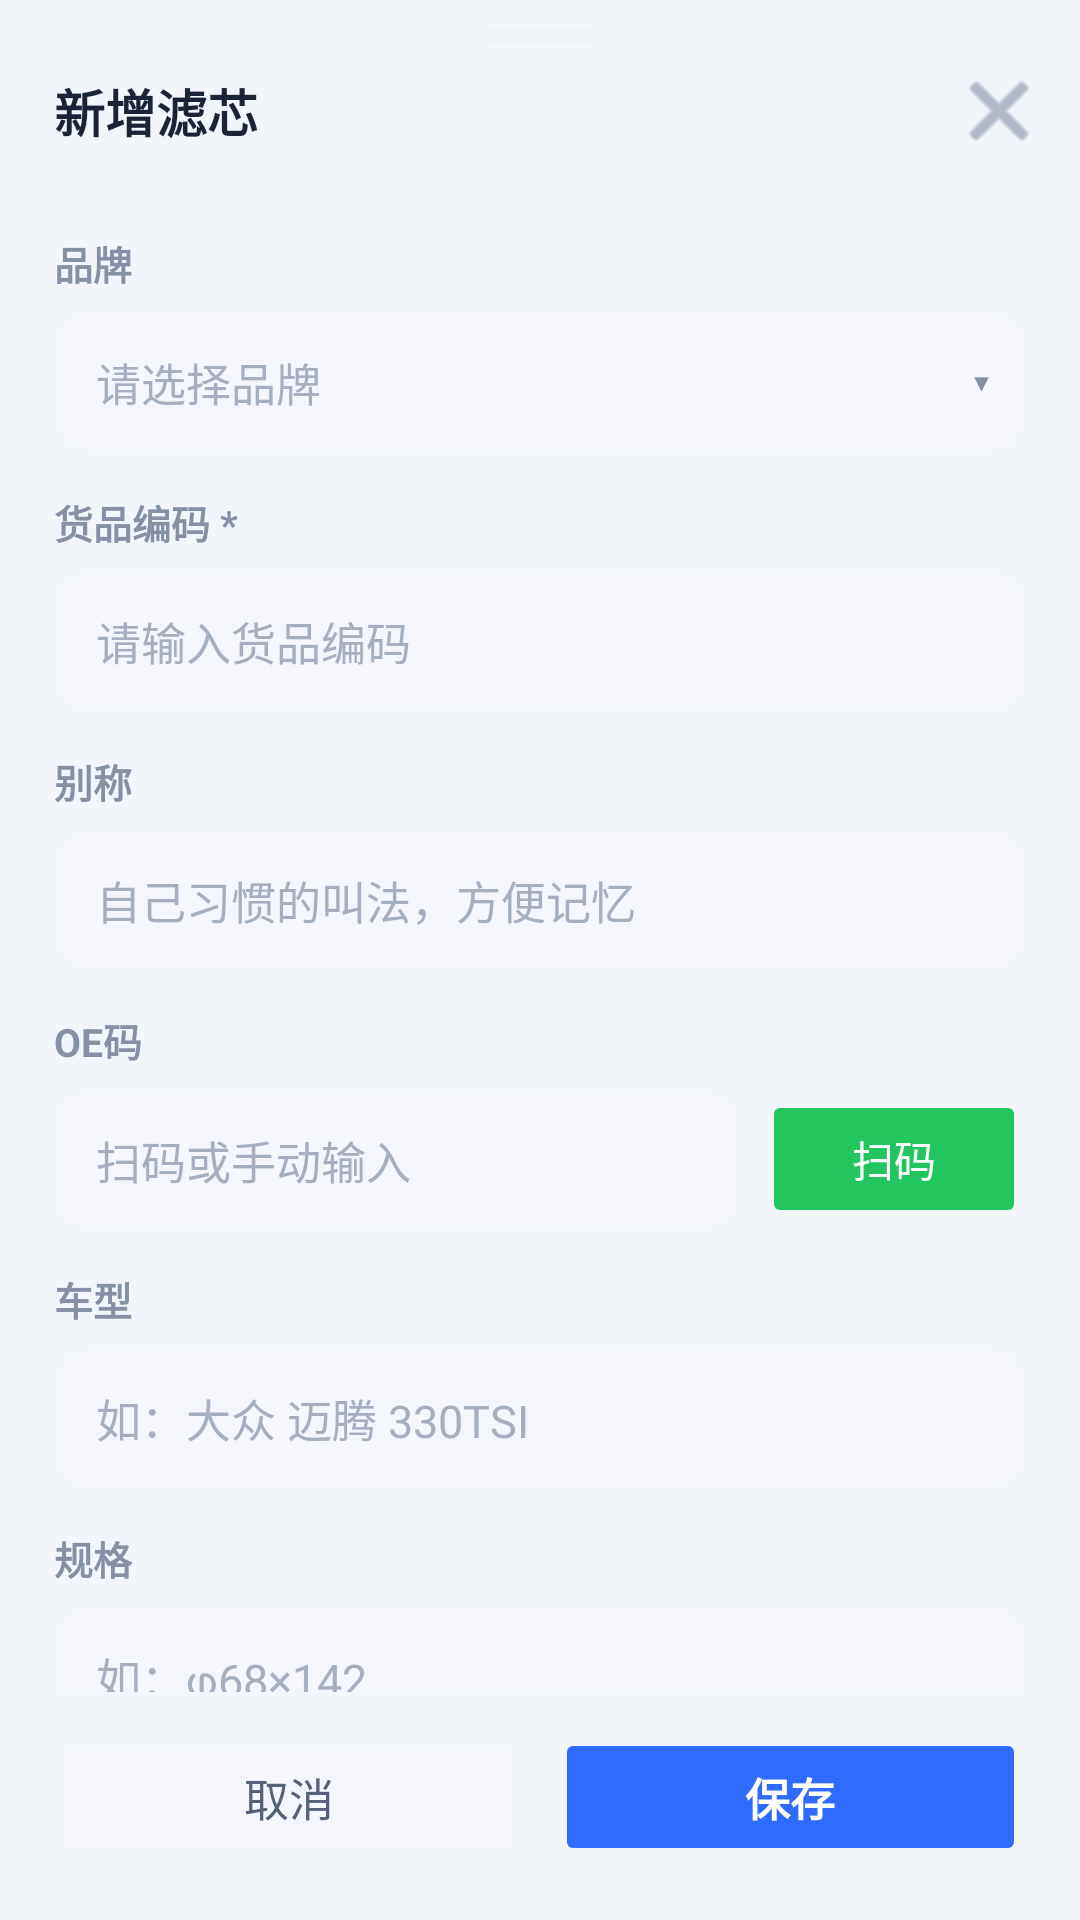

Named icons in this screenshot (1080×1920) and their bounding boxes, (x1,y1,x2,y2):
关闭: (970,82,1028,140)
